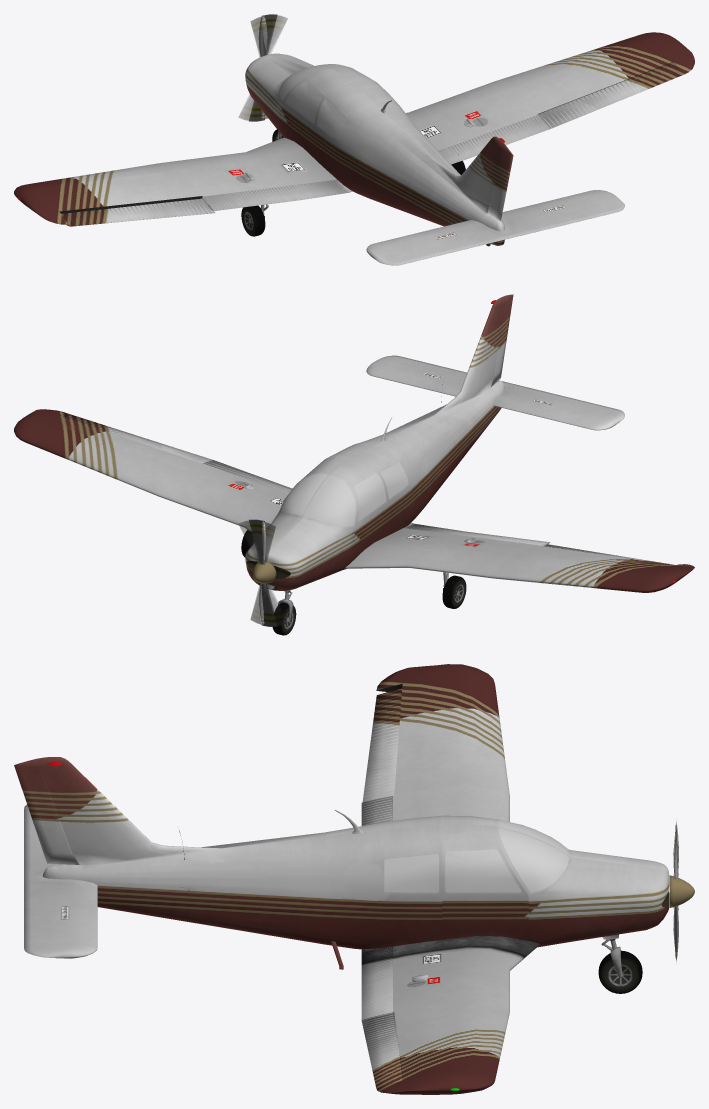
3 renders of one model, top to bottom at view 1: azimuth 30°, elevation 25°; view 2: azimuth 150°, elevation 25°; view 3: azimuth 270°, elevation 25°, orthographic. The views are drawn at different scales.
Visible parts, largest first — view 1: ailes, fuselage, ailes2, aileronD, voletG, aileronG, vitres, voletD, propdisc, direction, trous, roueG (+1 smaller); view 2: ailes, fuselage, ailes2, vitres, propdisc, aileronD, propblur, voletG, voletD, direction, roueG, roueA; view 3: fuselage, ailes, ailes2, vitres, porteG, aileronG, direction, vitreporteG, aileronD, voletD, roueA, voletG.
Part boxes in pixels (left/top/right/bottom): ailes: left=14, top=32, right=694, bottom=224; fuselage: left=245, top=53, right=505, bottom=245; ailes2: left=366, top=190, right=624, bottom=265; aileronD: left=538, top=62, right=684, bottom=128; voletG: left=202, top=179, right=348, bottom=210; aileronG: left=61, top=198, right=215, bottom=226; vitres: left=279, top=64, right=347, bottom=139; voletD: left=438, top=115, right=549, bottom=164; propdisc: left=238, top=15, right=287, bottom=120; direction: left=488, top=144, right=513, bottom=220; trous: left=59, top=61, right=673, bottom=213; roueG: left=241, top=205, right=265, bottom=236; ailes: left=14, top=409, right=694, bottom=592; fuselage: left=245, top=296, right=505, bottom=590; ailes2: left=366, top=355, right=624, bottom=430; vitres: left=279, top=462, right=408, bottom=526; propdisc: left=238, top=520, right=287, bottom=626; aileronD: left=60, top=413, right=213, bottom=463; propblur: left=249, top=519, right=277, bottom=626; voletG: left=404, top=524, right=549, bottom=545; voletD: left=203, top=460, right=292, bottom=494; direction: left=492, top=294, right=513, bottom=385; roueG: left=442, top=575, right=466, bottom=608; roueA: left=272, top=602, right=296, bottom=635; fuselage: left=37, top=757, right=669, bottom=949; ailes: left=361, top=664, right=539, bottom=1094; ailes2: left=24, top=804, right=97, bottom=958; vitres: left=384, top=820, right=569, bottom=892; porteG: left=442, top=834, right=528, bottom=929; aileronG: left=362, top=688, right=401, bottom=802; direction: left=14, top=758, right=76, bottom=864; vitreporteG: left=445, top=849, right=521, bottom=892; aileronD: left=361, top=1012, right=402, bottom=1088; voletD: left=361, top=946, right=392, bottom=1019; roueA: left=598, top=950, right=642, bottom=993; voletG: left=361, top=796, right=392, bottom=825.
Bounding box in the file's own units: 10.55 × 2.73 × 7.15.
Materials: 5 (2 with a texture image).
